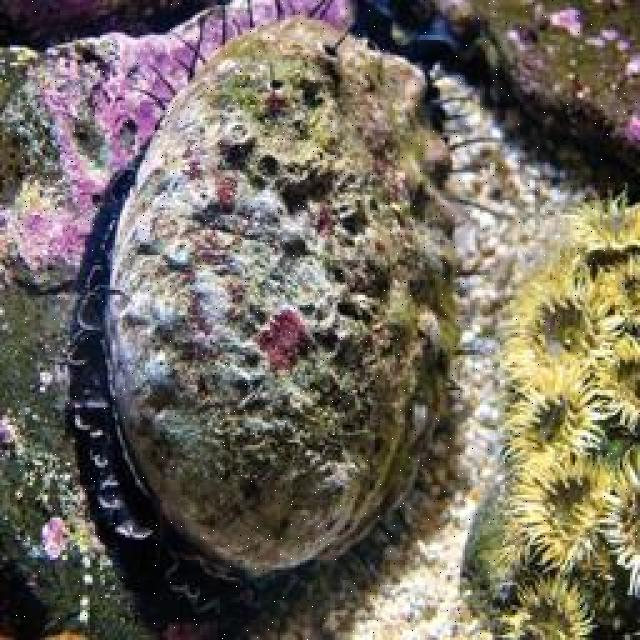reefs: (65, 18, 466, 614), (472, 182, 638, 636)
